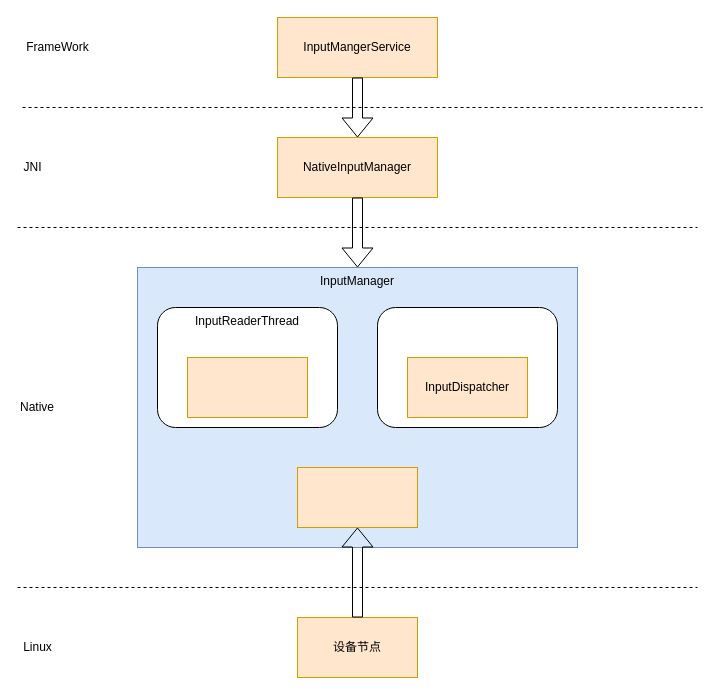
This 721x695 diagram has some shape labels left out. Here are the shapes that lost their labels. From the top down, the box of each, then its label:
(186, 356, 308, 418): InputReader
(376, 306, 558, 428): InputDispatcherThread
(296, 466, 418, 528): EventHub
